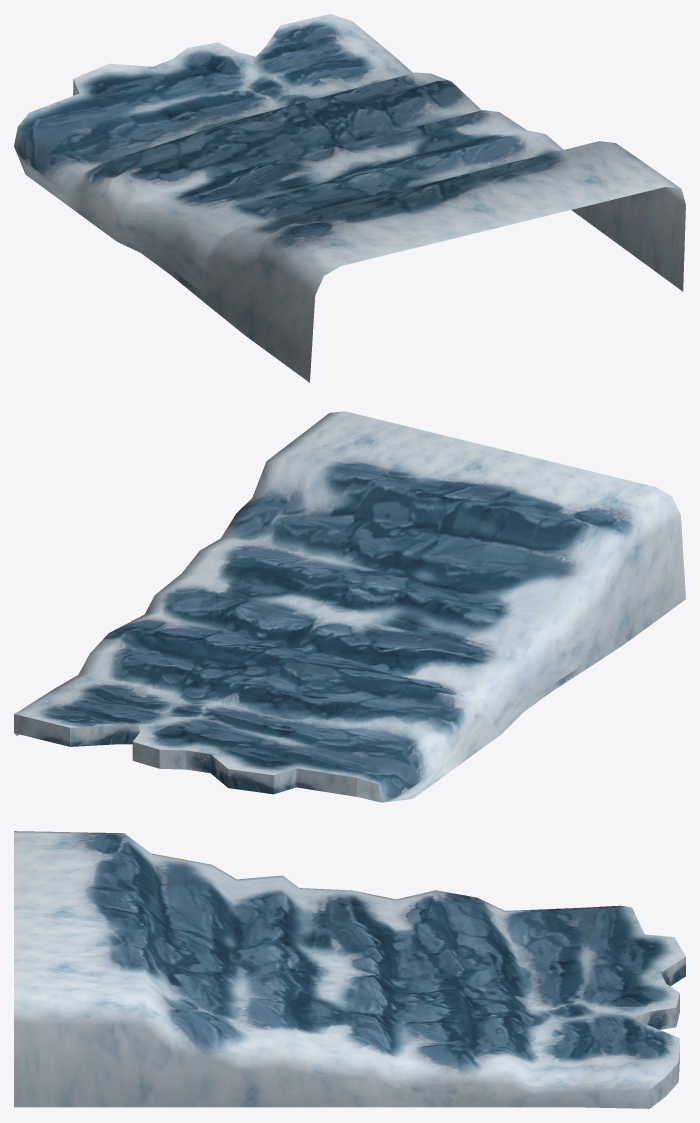
Rendered from Ice_bridge01.FBX.
3 renders of one model, top to bottom at view 1: azimuth 30°, elevation 25°; view 2: azimuth 150°, elevation 25°; view 3: azimuth 270°, elevation 25°, orthographic. The views are drawn at different scales.
Parts seen in each view (by area): view 1: Plane027; view 2: Plane027; view 3: Plane027.
Boxes of the visible parts, x1,y1,x2,y2 form: Plane027: (14, 14, 685, 382); Plane027: (14, 411, 685, 802); Plane027: (14, 831, 685, 1108).
Size of the model in its own units: 315 by 87.39 by 491.
